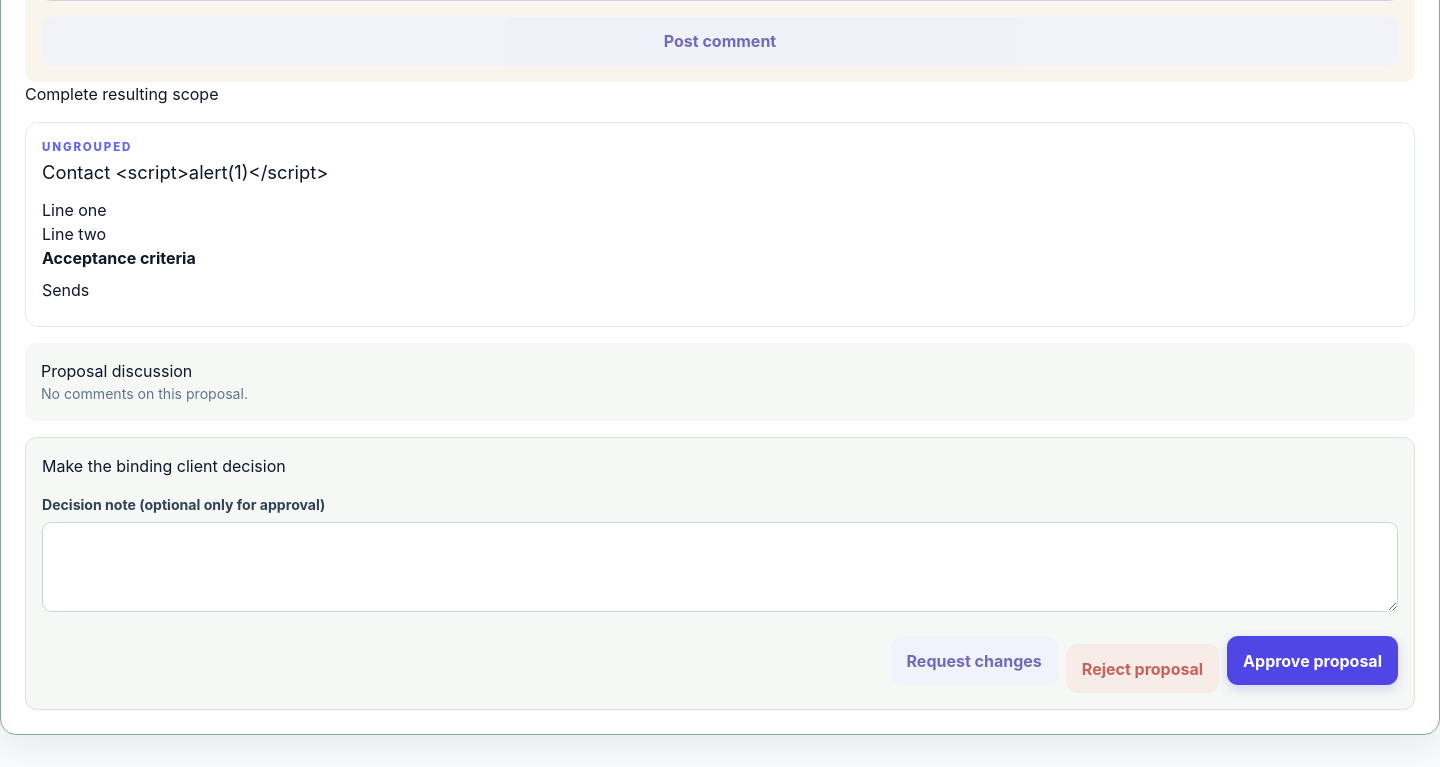
Scenario: Slice 1.3 change-control interface › shows three distinct decisions only to an approver with an exact-proposal confirmation
(page scrolled)
Expected: the button "Request changes" is disabled, 890,636 -> 1058,685
Expected: the button "Reject proposal" is disabled, 1066,644 -> 1219,693
Click the button "Approve proposal" at (1313, 661), box 1227,636 -> 1398,685
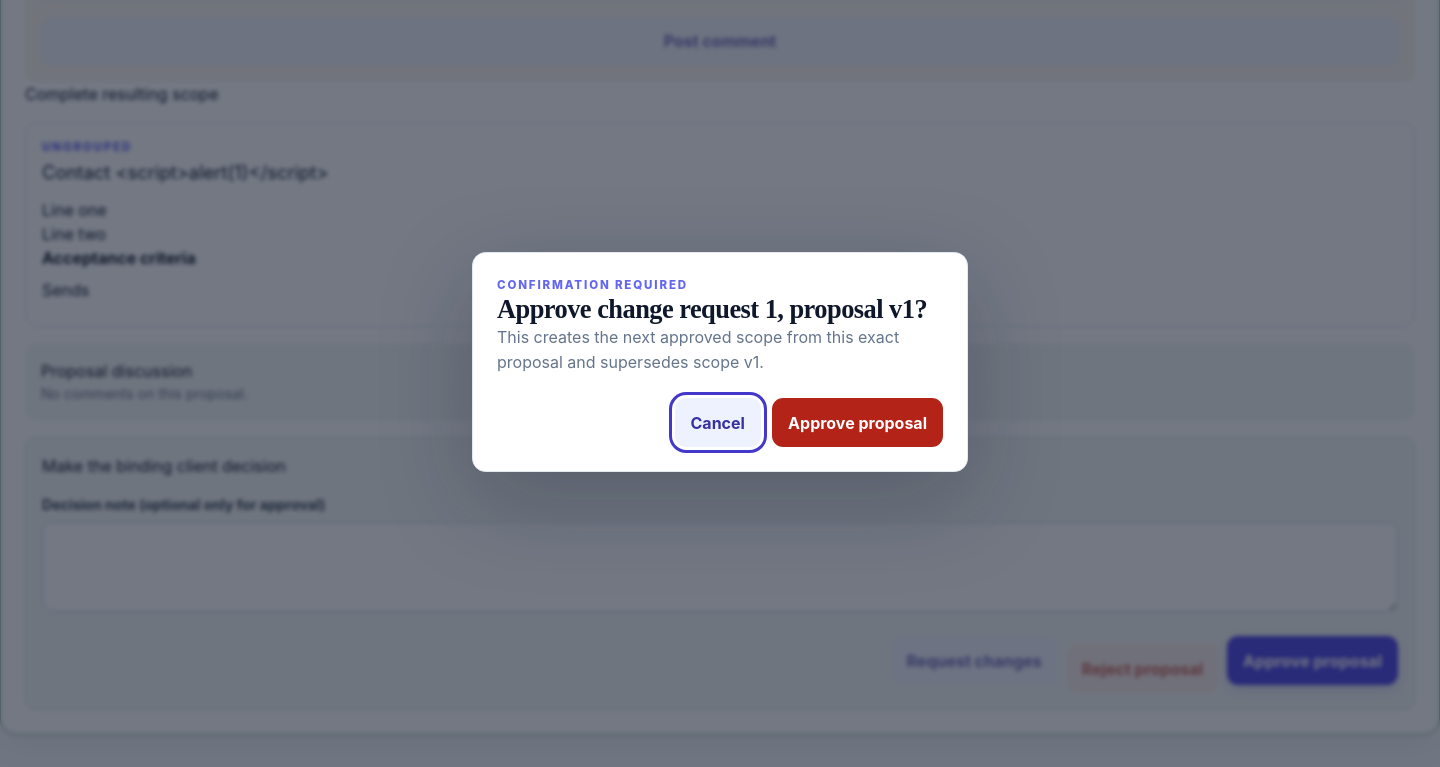
Now the dialog "Approve change request 1, proposal v1" shows "supersedes scope v1", box 497,327 -> 899,372
